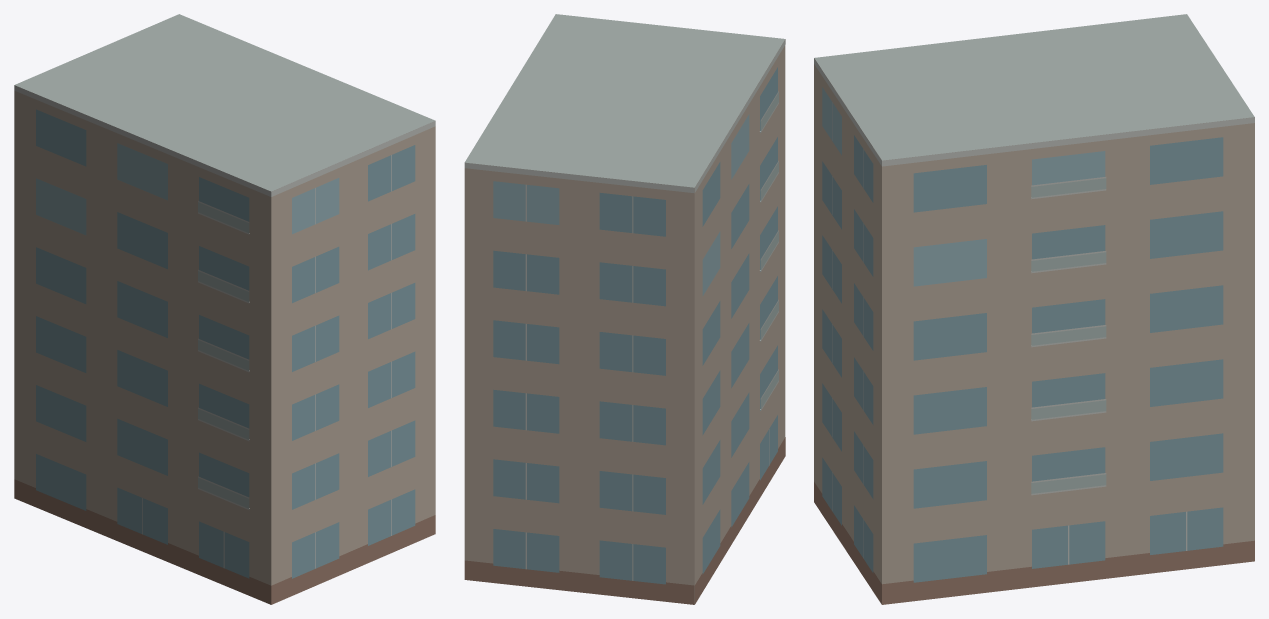
The model's file is survey-upis-32565209.glb.
3 renders of one model, left to right at view 1: azimuth 30°, elevation 25°; view 2: azimuth 150°, elevation 25°; view 3: azimuth 270°, elevation 25°, orthographic. The views are drawn at different scales.
Visible parts, largest first — view 1: survey-upis-32565209.tmp; view 2: survey-upis-32565209.tmp; view 3: survey-upis-32565209.tmp.
Part boxes in pixels (x1,y1,x2,y2): survey-upis-32565209.tmp: (14,14,435,604); survey-upis-32565209.tmp: (464,14,785,604); survey-upis-32565209.tmp: (814,14,1254,604).
Bounding box in the file's own units: 12.96 × 18.3 × 16.46.
